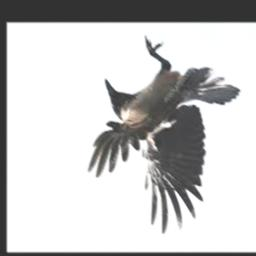Crow: (89, 35, 241, 235)
